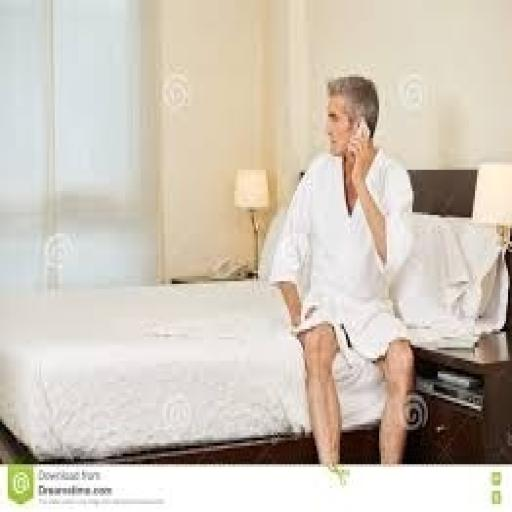calling: (266, 72, 416, 470)
